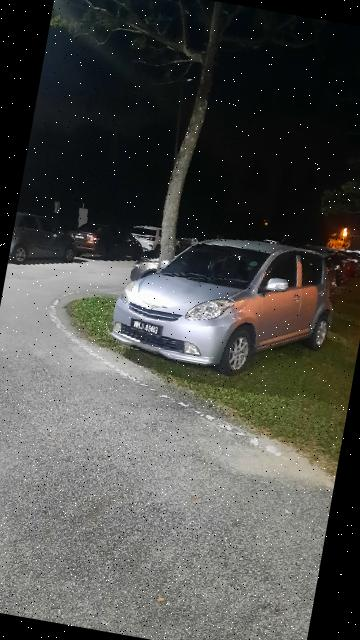License_Plate: (126, 317, 167, 342)
car: (104, 212, 354, 410)
